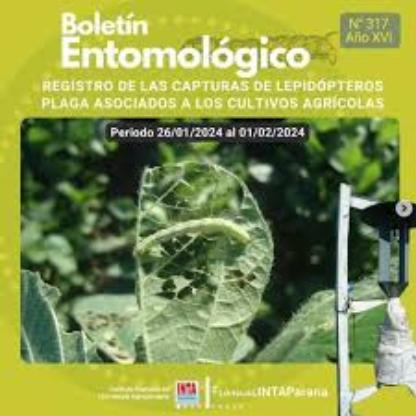agujero: (138, 161, 266, 292)
